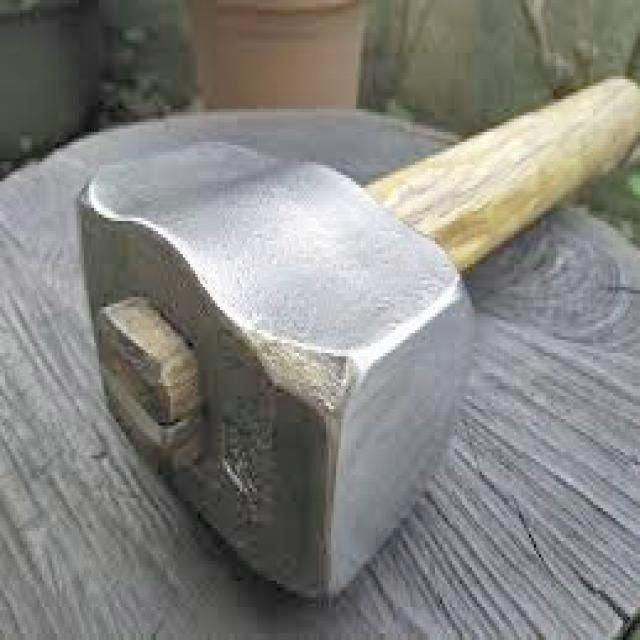hammer: (69, 72, 640, 620)
